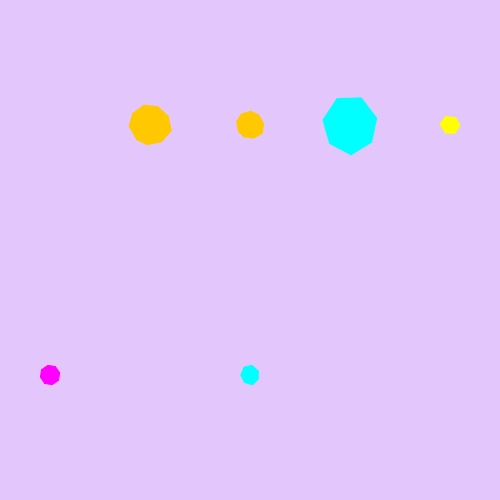heptagon: (318, 95, 382, 156), (236, 361, 265, 389)
hexagon: (435, 112, 465, 138)
nonagon: (125, 101, 175, 149), (232, 107, 269, 143)
octagon: (35, 360, 65, 390)
